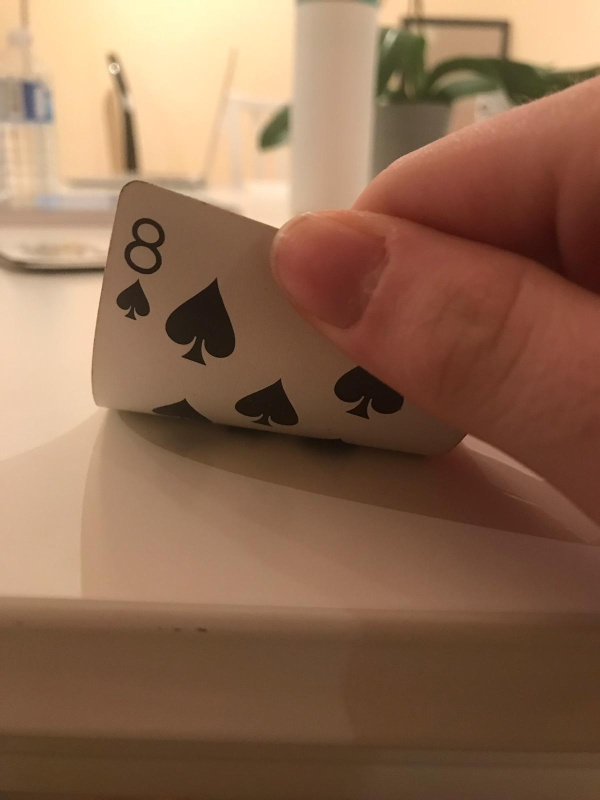S8: (114, 214, 164, 322)
